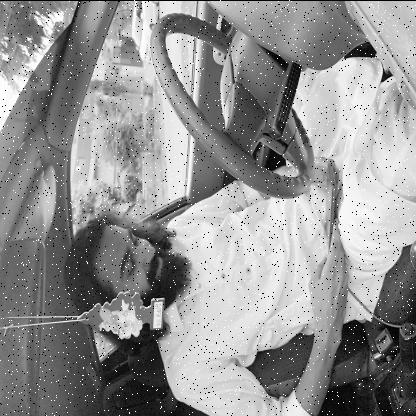no_seatbelt: (57, 190, 310, 318)
